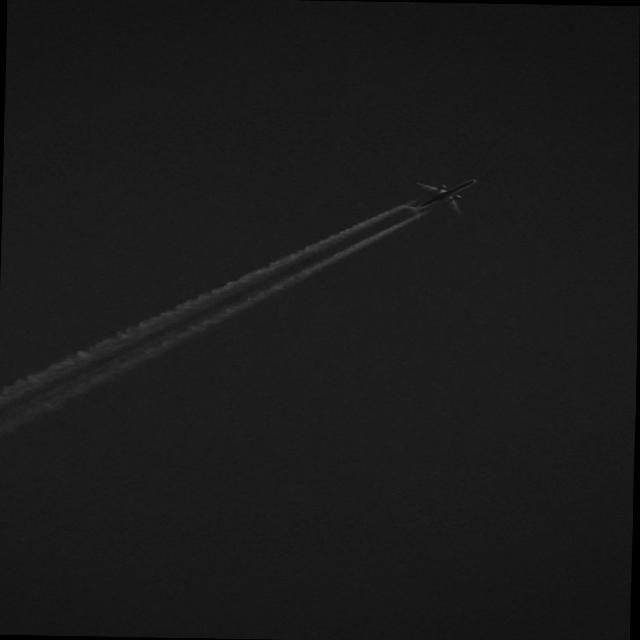aeroplane: (394, 172, 482, 227)
